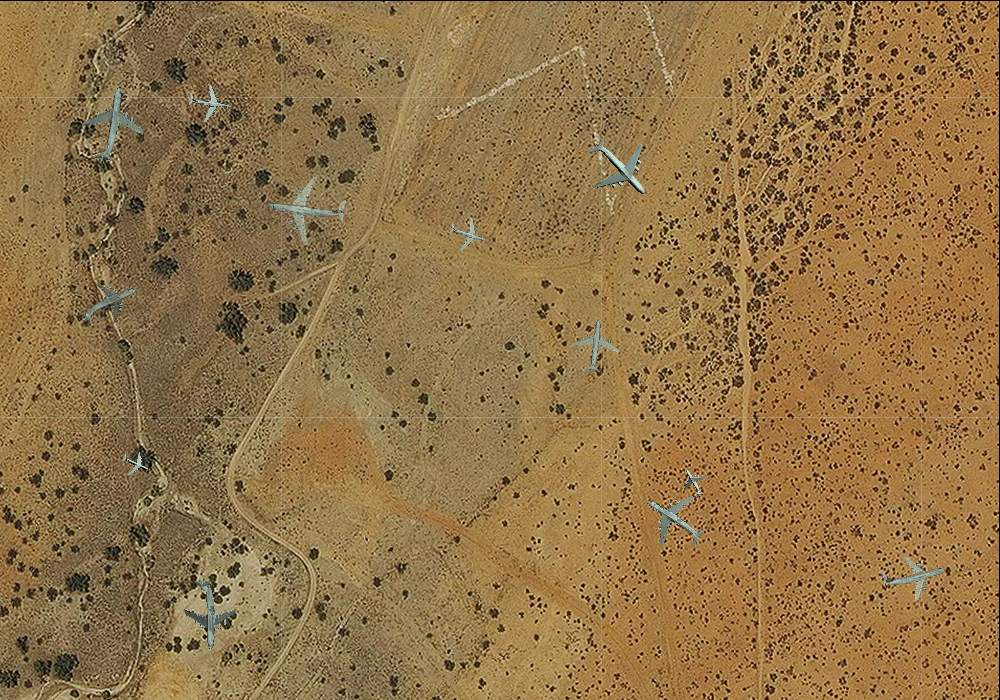plane: (571, 119, 668, 217), (629, 476, 719, 564), (262, 165, 351, 251), (70, 82, 151, 166), (70, 267, 148, 341), (874, 539, 951, 611), (175, 579, 238, 650), (567, 316, 623, 375), (443, 210, 491, 257), (185, 79, 232, 125), (673, 463, 713, 503), (116, 445, 153, 481)
